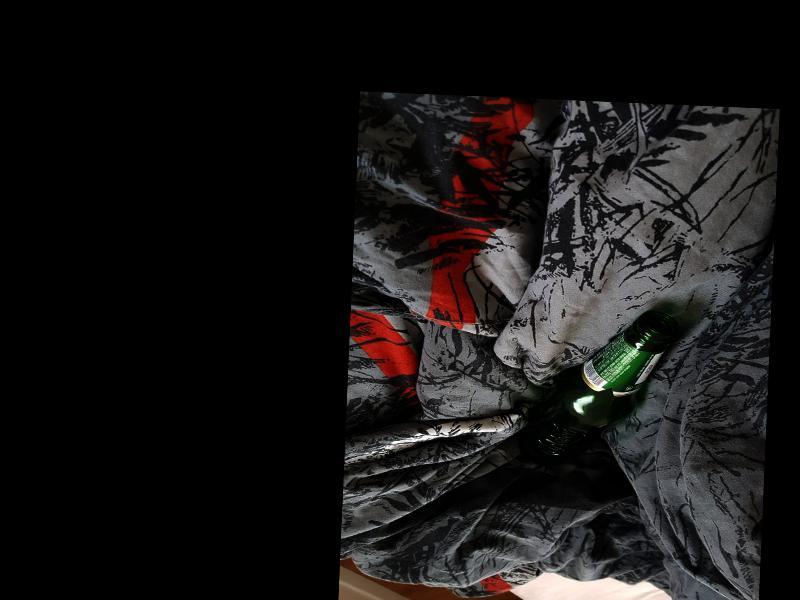Beer: (517, 303, 677, 470)
